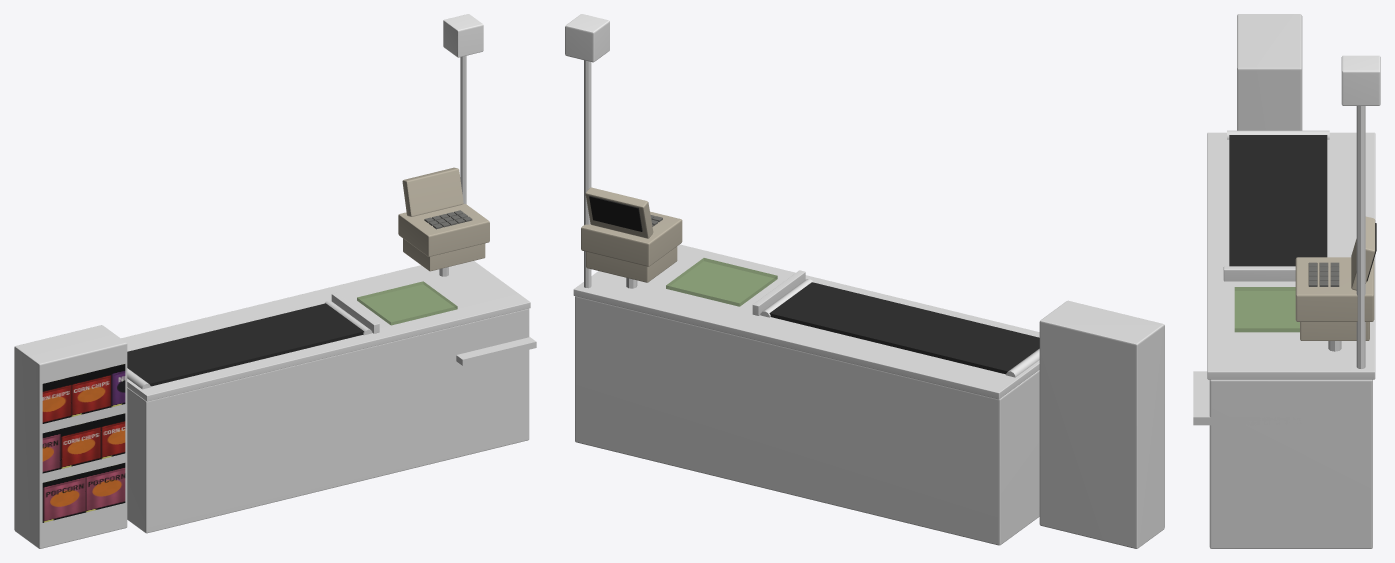
The model's file is SM_Checkout.fbx.
The picture shows the model from 3 angles, left to right: view 1: azimuth 30°, elevation 25°; view 2: azimuth 150°, elevation 25°; view 3: azimuth 270°, elevation 25°; orthographic projection. The views are drawn at different scales.
Visible parts, largest first — view 1: SM_Checkout_1; view 2: SM_Checkout_1; view 3: SM_Checkout_1.
Boxes of the visible parts, <box> form: SM_Checkout_1: <box>14,14,536,548</box>; SM_Checkout_1: <box>565,14,1164,548</box>; SM_Checkout_1: <box>1193,14,1380,548</box>.
Bounding box in the file's own units: 329 × 244 × 86.
